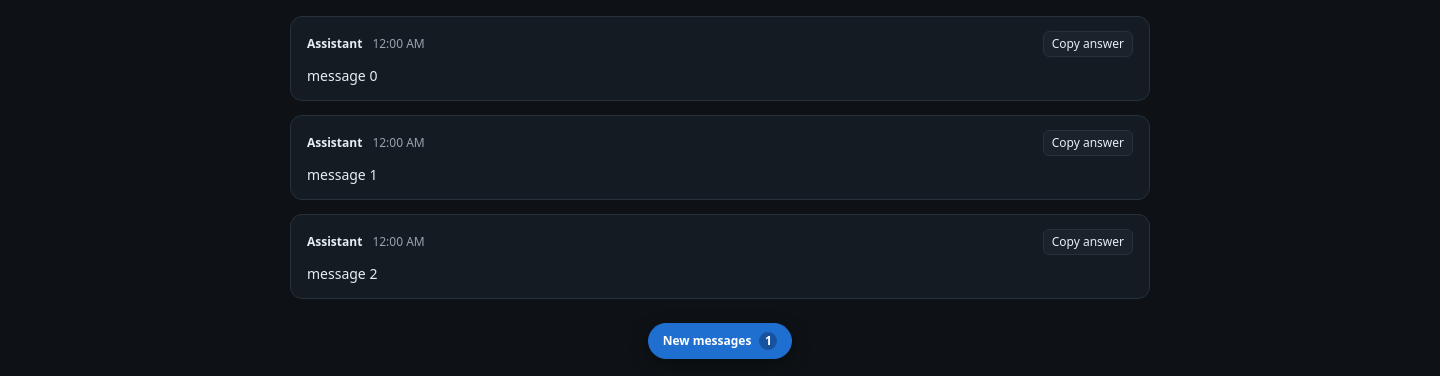
Test case: returning to the latest content › starts a smooth return and holds the guard while it is in flight
The width and height of the screenshot is (1440, 376).
(page scrolled)
Click the button with class "new-messages-button". click: (720, 341)
box: [648, 323, 792, 359]
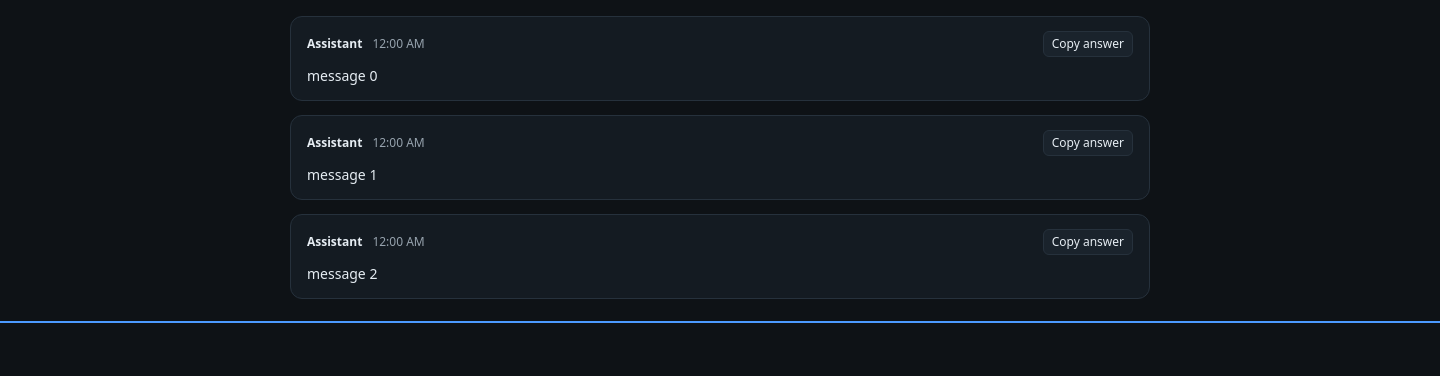
Expected: the button with class "new-messages-button" is gone
